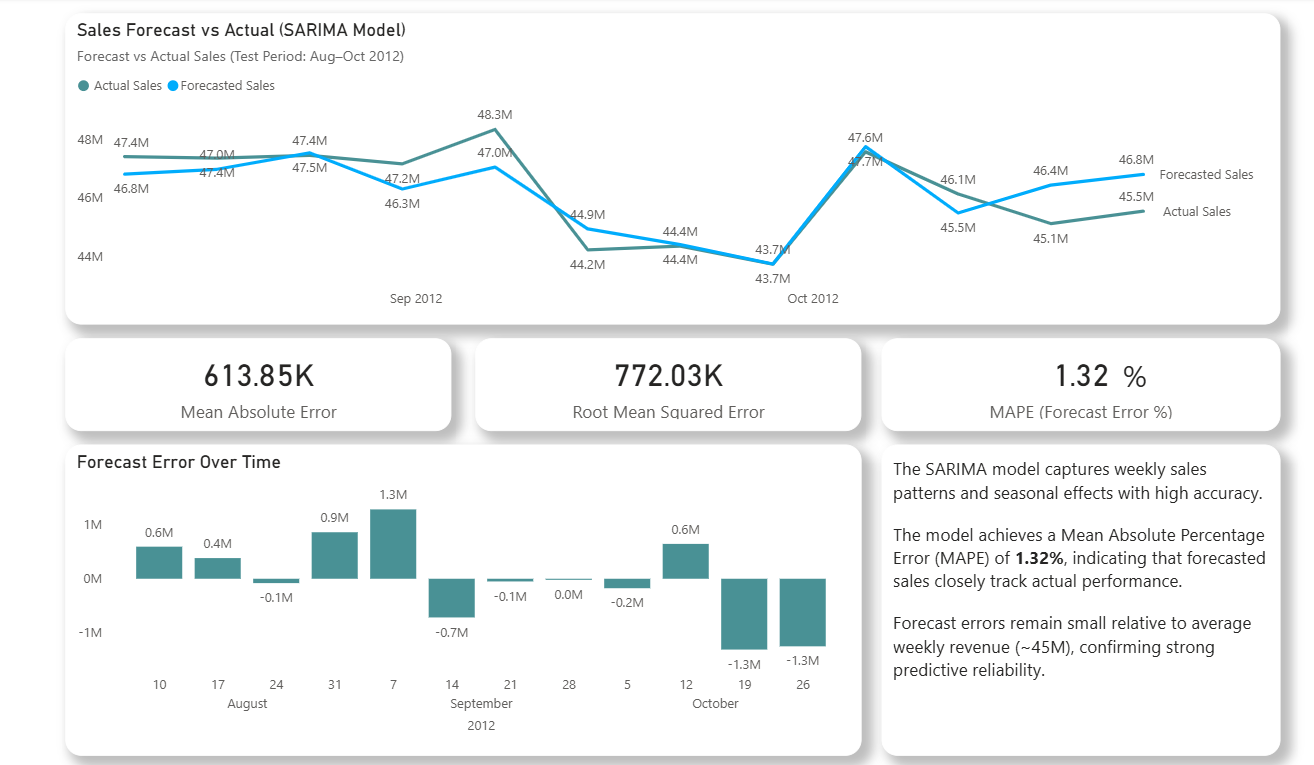

The dashboard page shown, as its layout file describes it:
{"tool":"powerbi","page":{"name":"Sales Forecast & Model Performance","canvas":[1280,720],"ordinal":2},"visuals":[{"type":"lineChart","title":"Sales Forecast vs Actual (SARIMA Model)","fields":{"Y":["Sum(forecast_results.Actual_Sales)","Sum(forecast_results.Forecasted_Sales)"],"Category":["forecast_results.Date.Variation.Date Hierarchy.Year","forecast_results.Date.Variation.Date Hierarchy.Month","forecast_results.Date.Variation.Date Hierarchy.Day"]},"box":[66.3,15.1,1130.2,289.5],"z":0},{"type":"card","fields":{"Values":["model_accuracy.RMSE_Value"]},"box":[447.7,317.4,359.3,86],"z":1000},{"type":"card","fields":{"Values":["model_accuracy.MAE_Value"]},"box":[66.3,317.4,359.3,86],"z":2000},{"type":"card","fields":{"Values":["model_accuracy.MAPE_Value"]},"box":[825.6,317.4,370.9,86],"z":3000},{"type":"columnChart","title":" Forecast Error Over Time","fields":{"Category":["forecast_results.Date.Variation.Date Hierarchy.Year","forecast_results.Date.Variation.Date Hierarchy.Month","forecast_results.Date.Variation.Date Hierarchy.Day"],"Y":["Sum(forecast_results.Forecast Error)"]},"box":[66.3,416.3,740.7,289.5],"z":4000},{"type":"textbox","box":[825.6,416.3,370.9,289.5],"z":4001},{"type":"textbox","box":[1011.6,329.1,98.8,48.8],"z":4002}]}

Visuals, with their boxes on the page's 1280x720 design canvas (x1, y1, x2, y2). These are canvas units, not pixel positions in the 1314x765 screenshot, which may show the page scaled, cropped or inside an application window:
"Sales Forecast vs Actual (SARIMA Model)" lineChart: [x1=66, y1=15, x2=1196, y2=305]
card - model_accuracy.RMSE_Value: [x1=448, y1=317, x2=807, y2=403]
card - model_accuracy.MAE_Value: [x1=66, y1=317, x2=426, y2=403]
card - model_accuracy.MAPE_Value: [x1=826, y1=317, x2=1196, y2=403]
" Forecast Error Over Time" columnChart: [x1=66, y1=416, x2=807, y2=706]
textbox: [x1=826, y1=416, x2=1196, y2=706]
textbox: [x1=1012, y1=329, x2=1110, y2=378]
